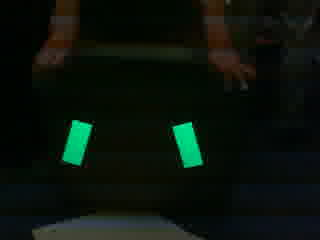target: (58, 116, 213, 171)
